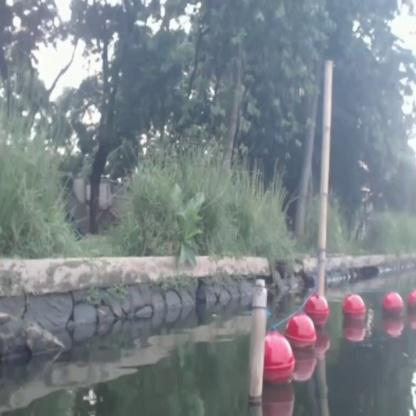red_buoy: (286, 312, 318, 352), (264, 336, 294, 376), (340, 288, 364, 328), (385, 290, 406, 326), (307, 292, 328, 322)
